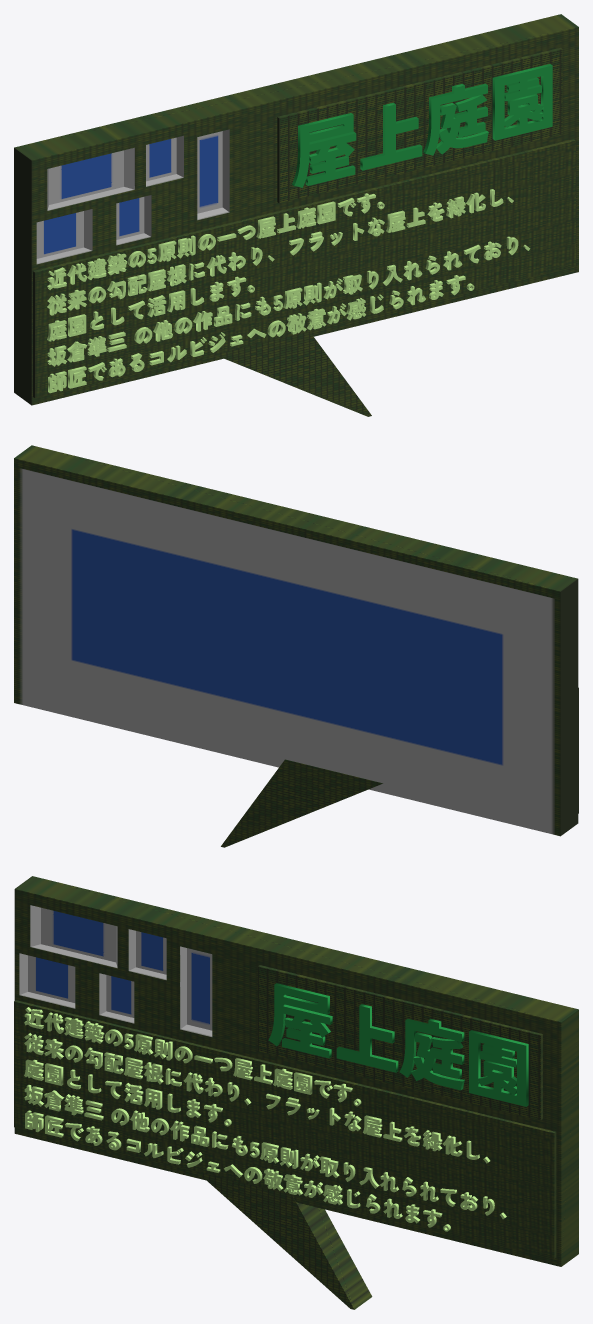
Rendered from fukidasi-okujouteien.glb.
3 views of the same model, one above another, from view 1: azimuth 30°, elevation 25°; view 2: azimuth 150°, elevation 25°; view 3: azimuth 330°, elevation 25° (orthographic).
Parts seen in each view (by area): view 1: 立方体, 立方体.002, テキスト.002, 立方体.003, テキスト, 立方体.001; view 2: 立方体, 立方体.001; view 3: 立方体, 立方体.002, テキスト.002, 立方体.003, テキスト, 立方体.001.
Boxes of the visible parts, bbox=[...] form: 立方体: bbox=[14, 14, 578, 405]; 立方体.002: bbox=[33, 139, 575, 398]; テキスト.002: bbox=[47, 189, 530, 393]; 立方体.003: bbox=[277, 48, 562, 203]; テキスト: bbox=[292, 64, 552, 187]; 立方体.001: bbox=[215, 331, 371, 416]; 立方体: bbox=[14, 445, 578, 836]; 立方体.001: bbox=[221, 759, 382, 847]; 立方体: bbox=[14, 876, 578, 1266]; 立方体.002: bbox=[14, 1000, 556, 1258]; テキスト.002: bbox=[24, 1007, 506, 1231]; 立方体.003: bbox=[258, 965, 542, 1120]; テキスト: bbox=[268, 983, 528, 1106]; 立方体.001: bbox=[197, 1172, 372, 1309].
Size of the model in its own units: 11.12 by 6.57 by 0.7778.
Materials: 6 (4 with a texture image).
